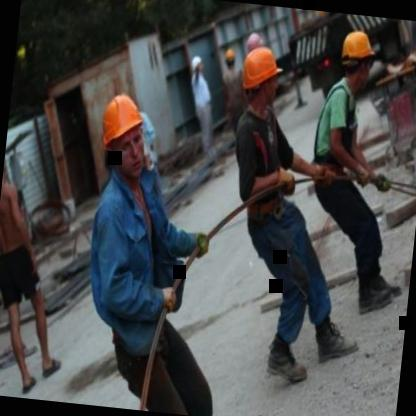helmet: (94, 89, 155, 182), (236, 40, 286, 118), (336, 24, 377, 86)
